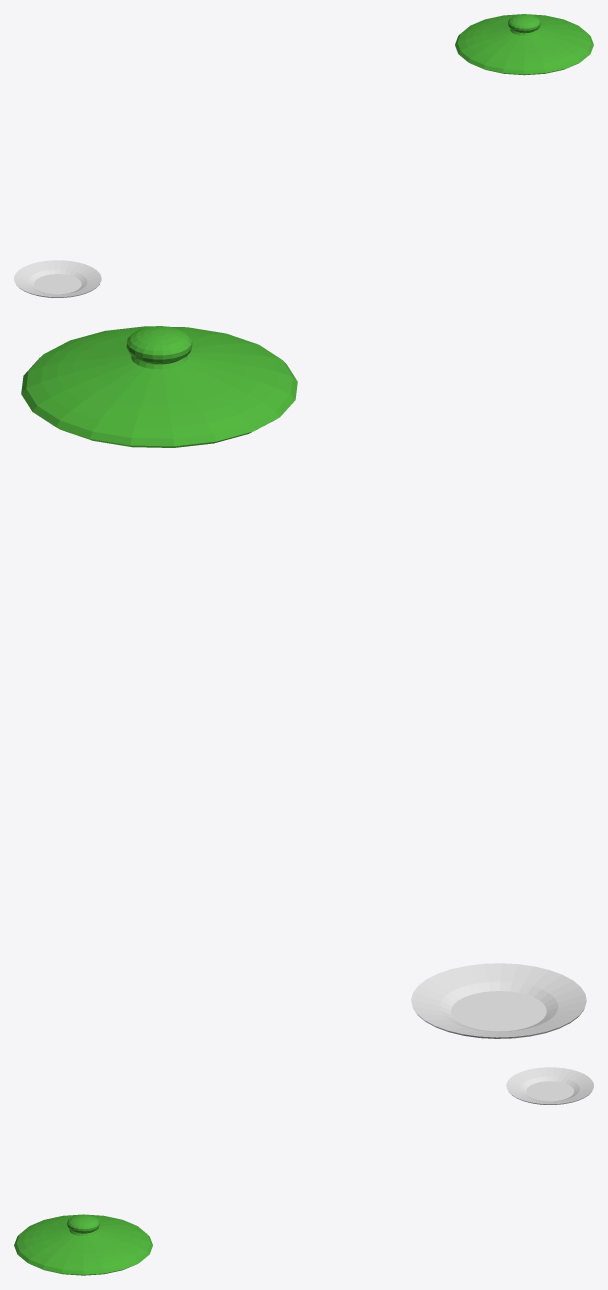
The model's file is potLid+Accessories.fbx.
3 renders of one model, top to bottom at view 1: azimuth 90°, elevation 25°; view 2: azimuth 150°, elevation 25°; view 3: azimuth 270°, elevation 25°, orthographic. The views are drawn at different scales.
Visible parts, largest first — view 1: JarLid, Plate; view 2: JarLid, Plate; view 3: JarLid, Plate.
Part boxes in pixels (x1,y1,x2,y2): JarLid: [455, 14, 593, 75]; Plate: [14, 260, 101, 297]; JarLid: [21, 326, 297, 447]; Plate: [411, 963, 586, 1038]; JarLid: [14, 1214, 152, 1275]; Plate: [506, 1067, 593, 1104].
Bounding box in the file's own units: 802 × 111 × 804.
